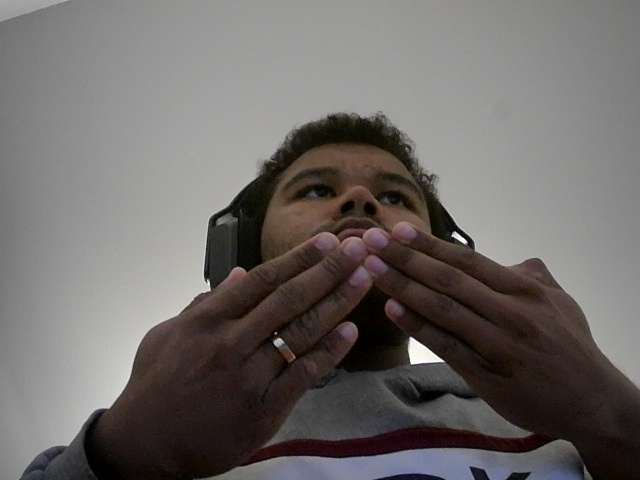ThankYou: (70, 222, 640, 480)
